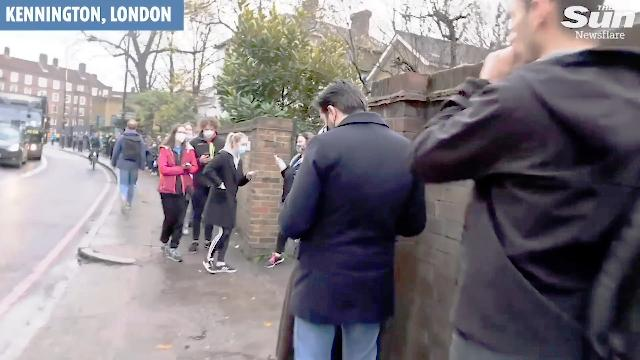berdiri: (267, 76, 435, 360), (196, 123, 254, 273), (148, 120, 194, 270)
